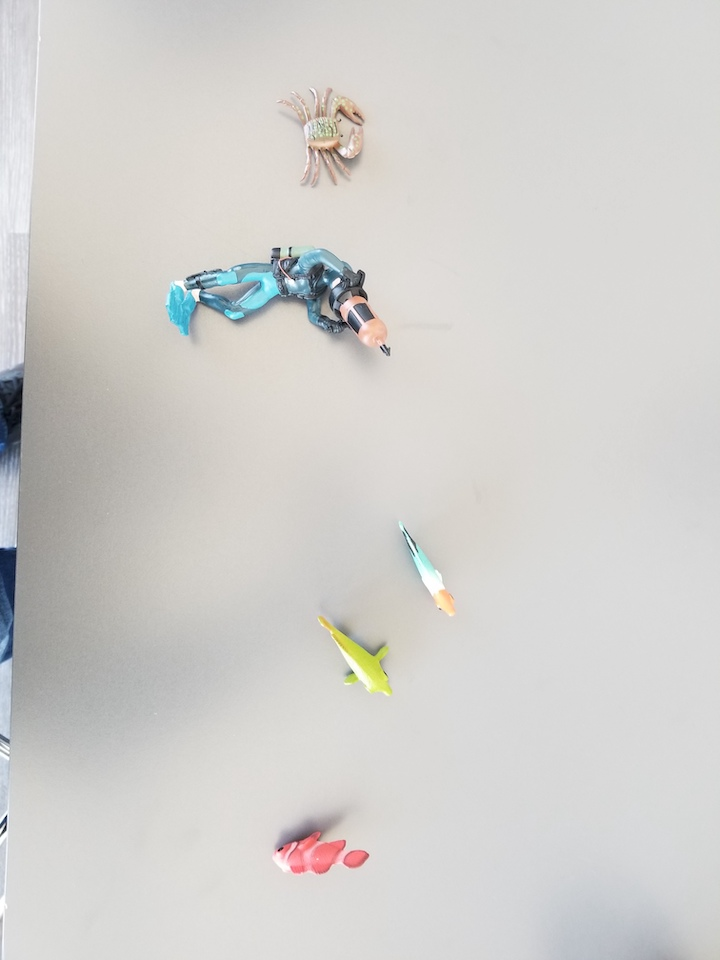crab: (275, 89, 369, 190)
diver: (165, 243, 399, 360)
fish: (312, 613, 398, 703), (394, 519, 459, 618), (269, 830, 374, 880)
